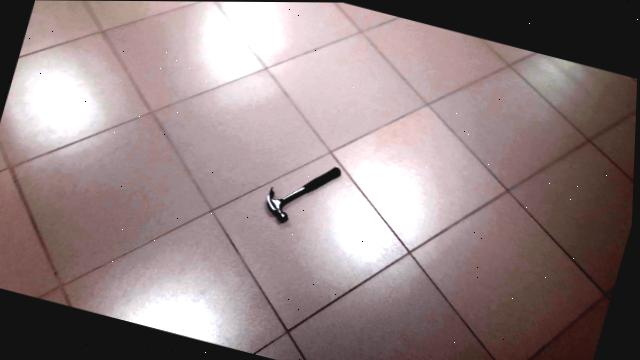hammer: (260, 151, 352, 240)
